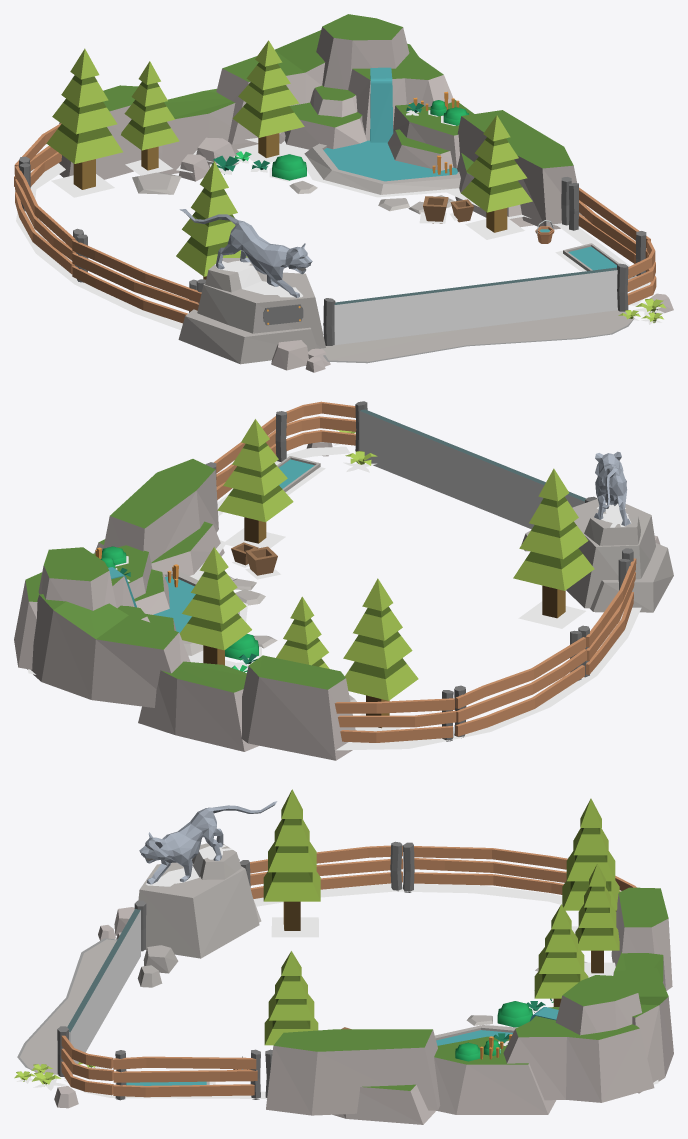
Rendered from xweilan_1001_1.FBX.
The picture shows the model from 3 angles, top to bottom: view 1: azimuth 30°, elevation 25°; view 2: azimuth 150°, elevation 25°; view 3: azimuth 270°, elevation 25°; orthographic projection. The views are drawn at different scales.
Visible parts, largest first — view 1: xweilan_1001_1; view 2: xweilan_1001_1; view 3: xweilan_1001_1.
Part boxes in pixels (x1=…): xweilan_1001_1: x1=14, y1=14, x2=673, y2=372; xweilan_1001_1: x1=14, y1=401, x2=673, y2=760; xweilan_1001_1: x1=14, y1=789, x2=673, y2=1124.
Size of the model in its own units: 4989 by 1630 by 6028.
